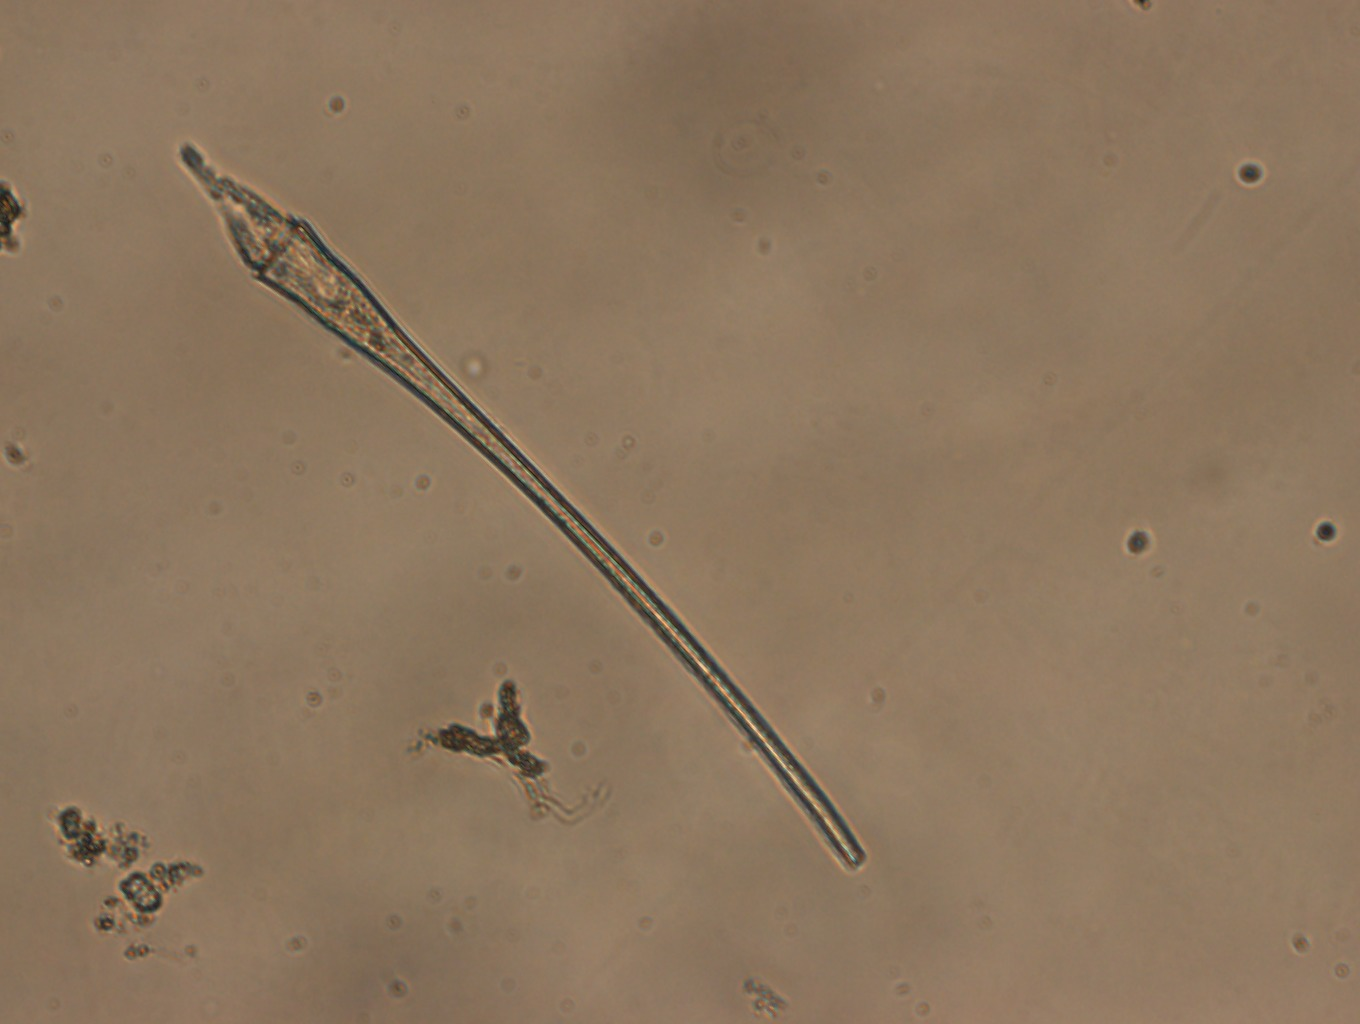ceratium fusus: (175, 143, 861, 866)
